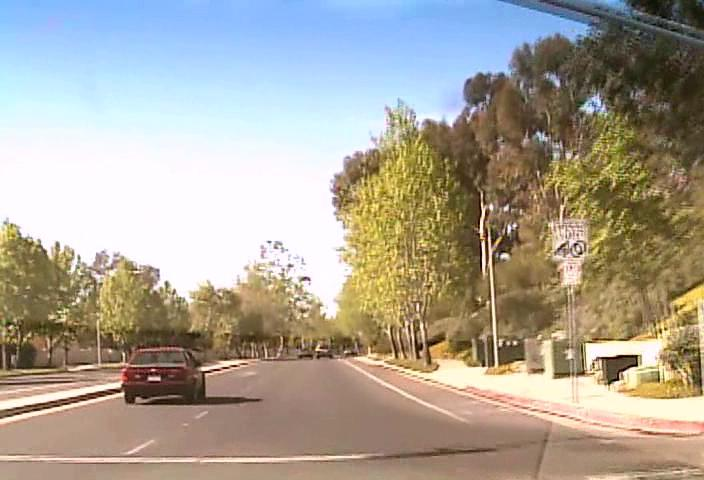speedLimit40: (550, 218, 588, 261)
